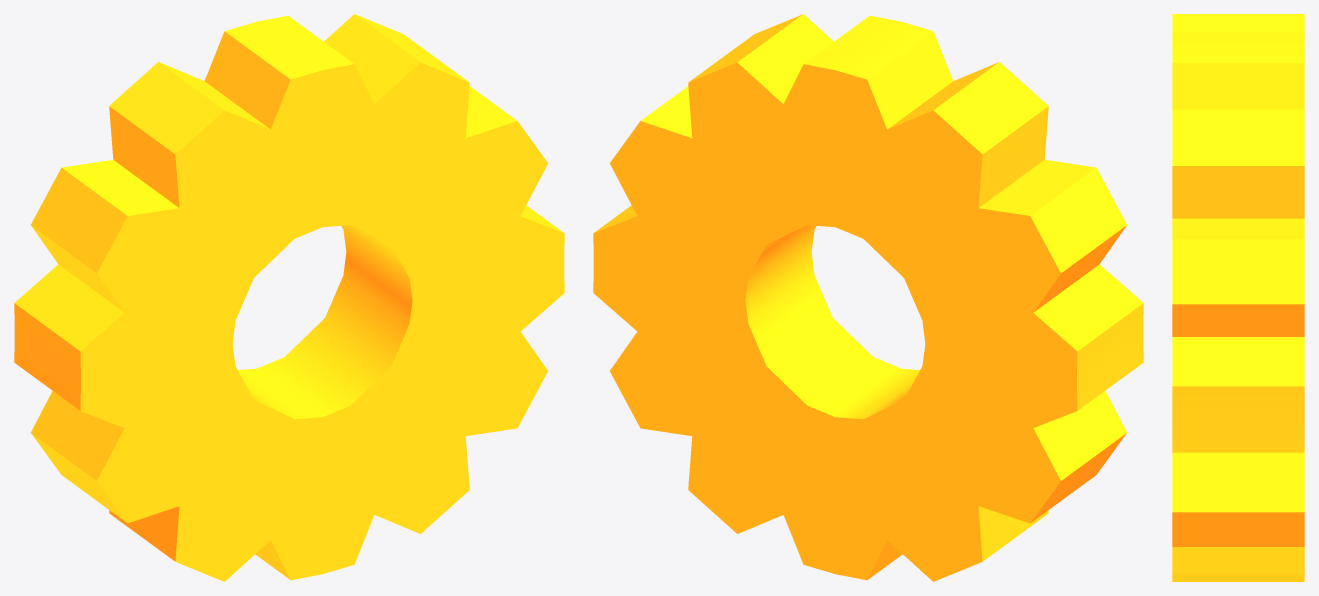
Rendered from Gear.fbx.
3 renders of one model, left to right at view 1: azimuth 30°, elevation 25°; view 2: azimuth 150°, elevation 25°; view 3: azimuth 270°, elevation 25°, orthographic.
Visible parts, largest first — view 1: Gear; view 2: Gear; view 3: Gear.
Part boxes in pixels (<box>): Gear: <box>14,14,564,581</box>; Gear: <box>593,14,1143,581</box>; Gear: <box>1172,14,1304,581</box>.
Size of the model in its own units: 1 by 0.9956 by 0.2372.
